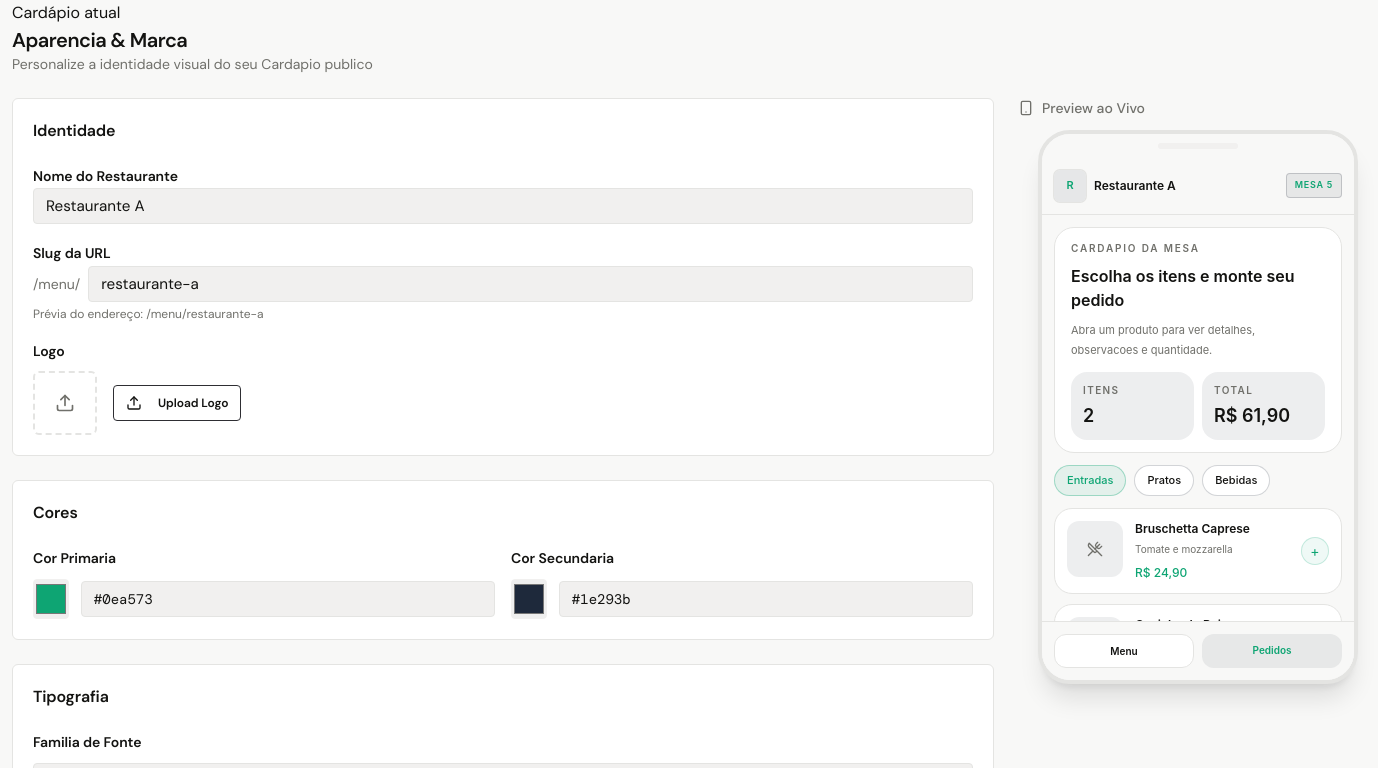
it: confirmed rename updates the shared restaurant context and selector without polling bootstrap again
Later steps or results of the test are not shown.
Replace the text in the field labelled "Slug da URL" with "novo-cardapio": {"x": 531, "y": 284} [88,266,973,302]
(page scrolled)
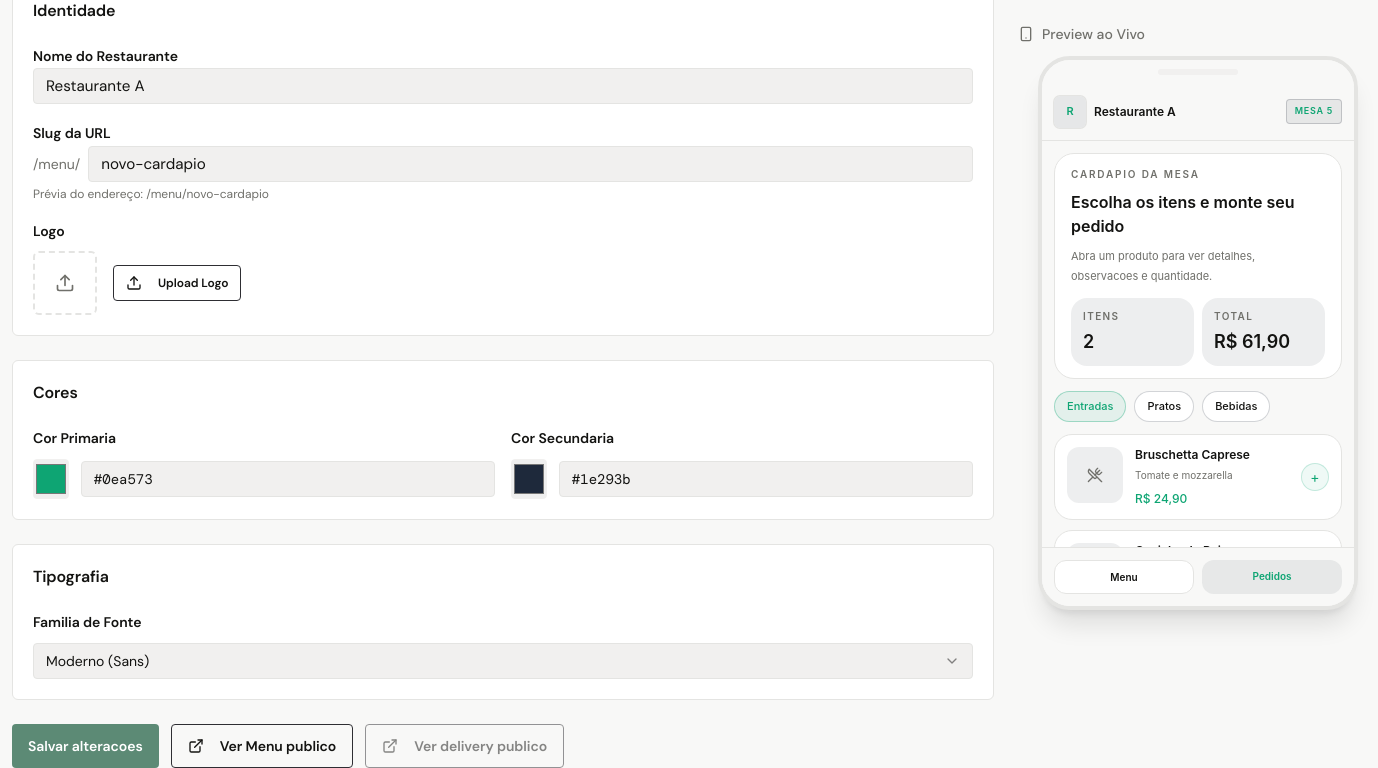
Click the button "Salvar alteracoes": {"x": 85, "y": 746} [12,724,159,767]
(page scrolled)
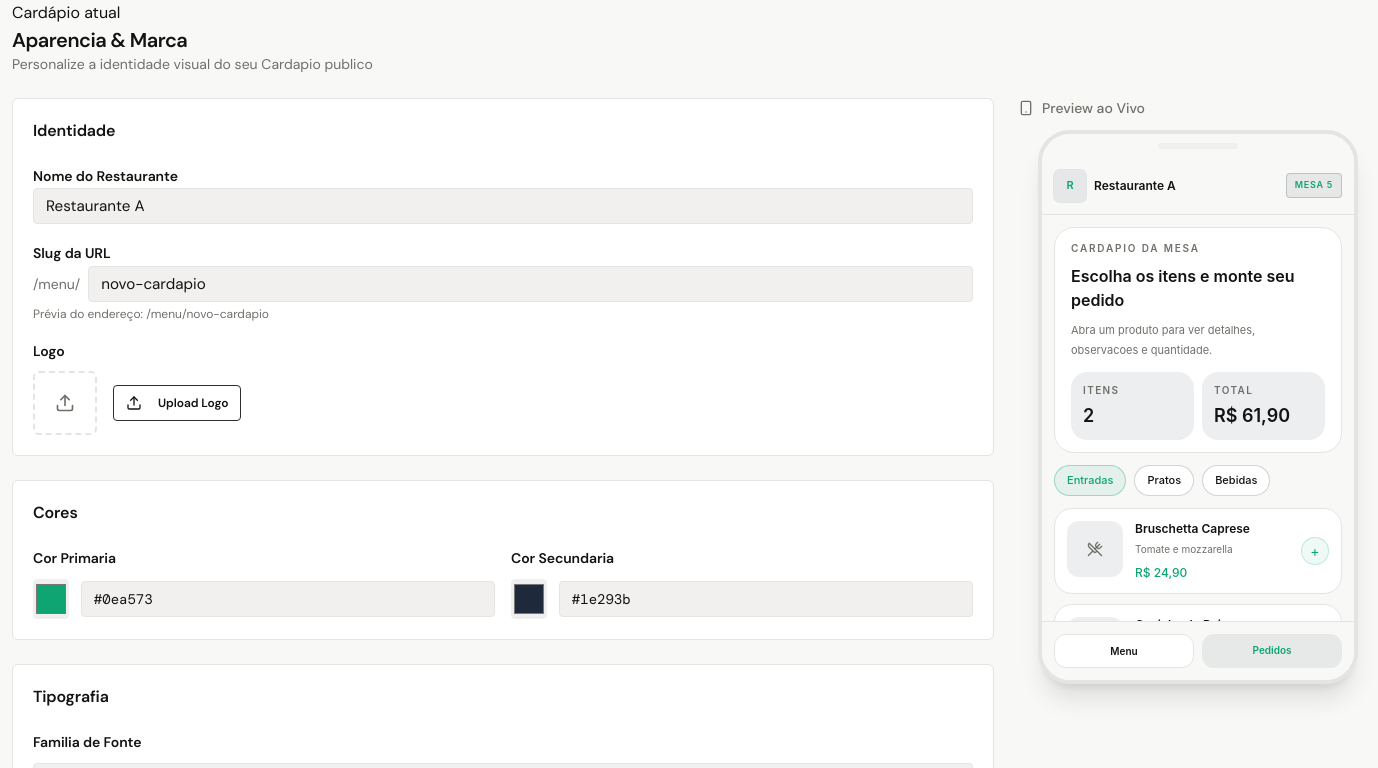
expect the link "Cardápio atual" has attribute href="/menu/novo-cardapio": met, box [12,2,120,23]
